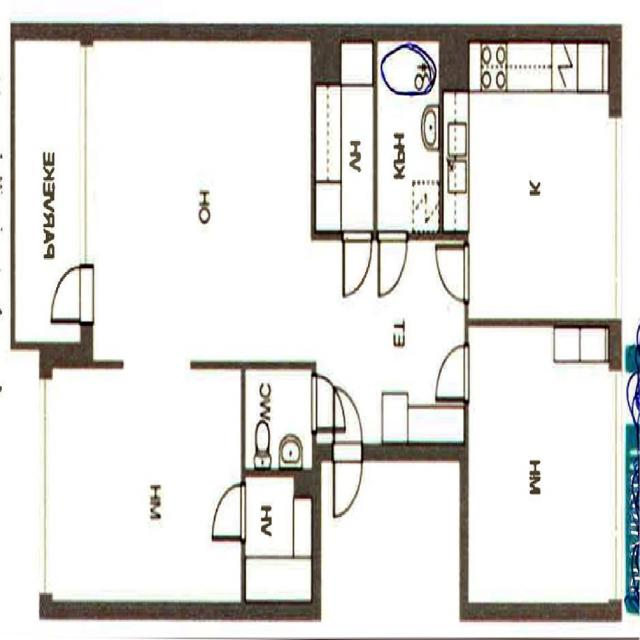door: (52, 266, 92, 322), (334, 442, 361, 514), (334, 389, 361, 460), (436, 246, 468, 302), (343, 231, 371, 293), (436, 346, 468, 400), (312, 376, 344, 430), (213, 484, 245, 538), (378, 231, 406, 292)
